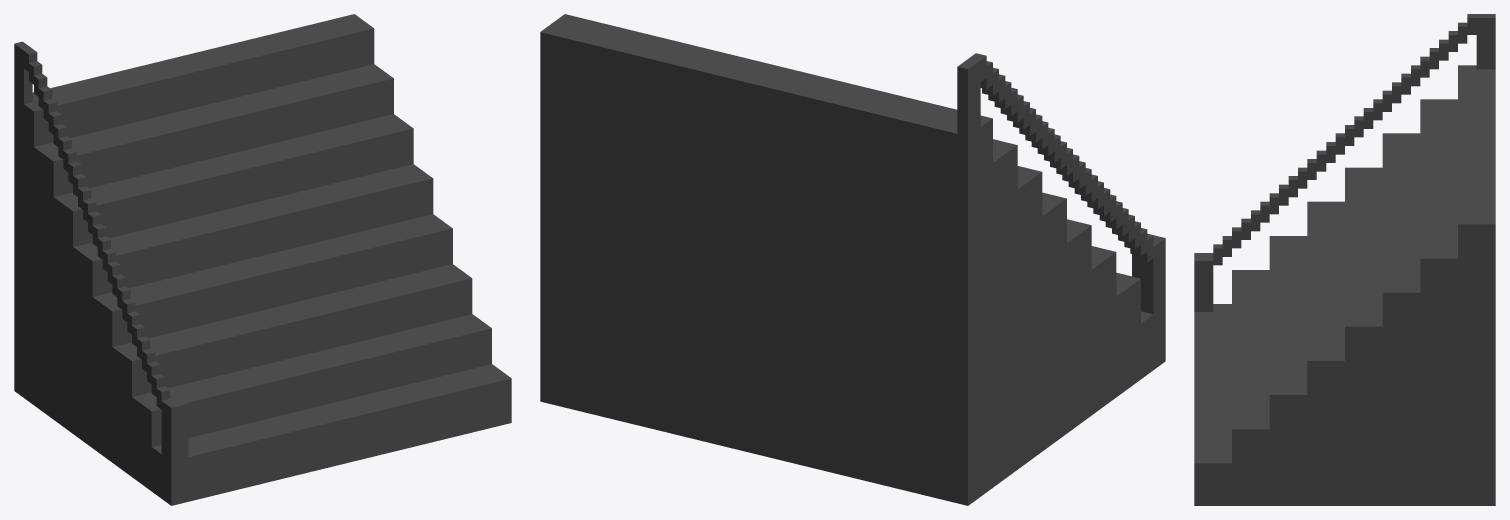
Rendered from Staircase.obj.
The picture shows the model from 3 angles, left to right: view 1: azimuth 30°, elevation 25°; view 2: azimuth 150°, elevation 25°; view 3: azimuth 270°, elevation 25°; orthographic projection. The views are drawn at different scales.
Bounding box in the file's own units: 4 × 3.9 × 3.2.
